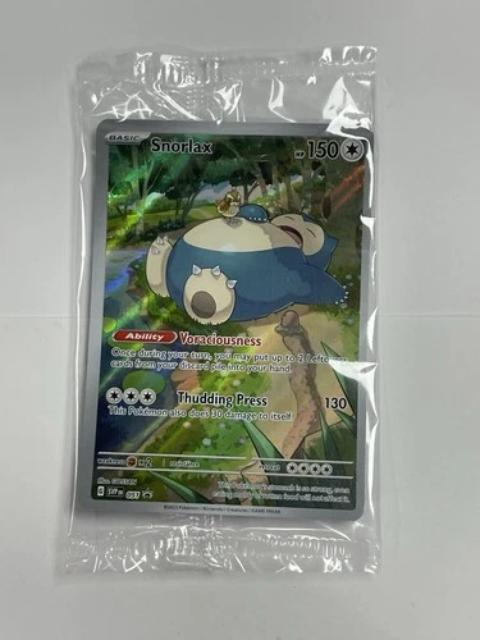Card: (69, 115, 379, 524)
Name: (143, 132, 216, 157)
